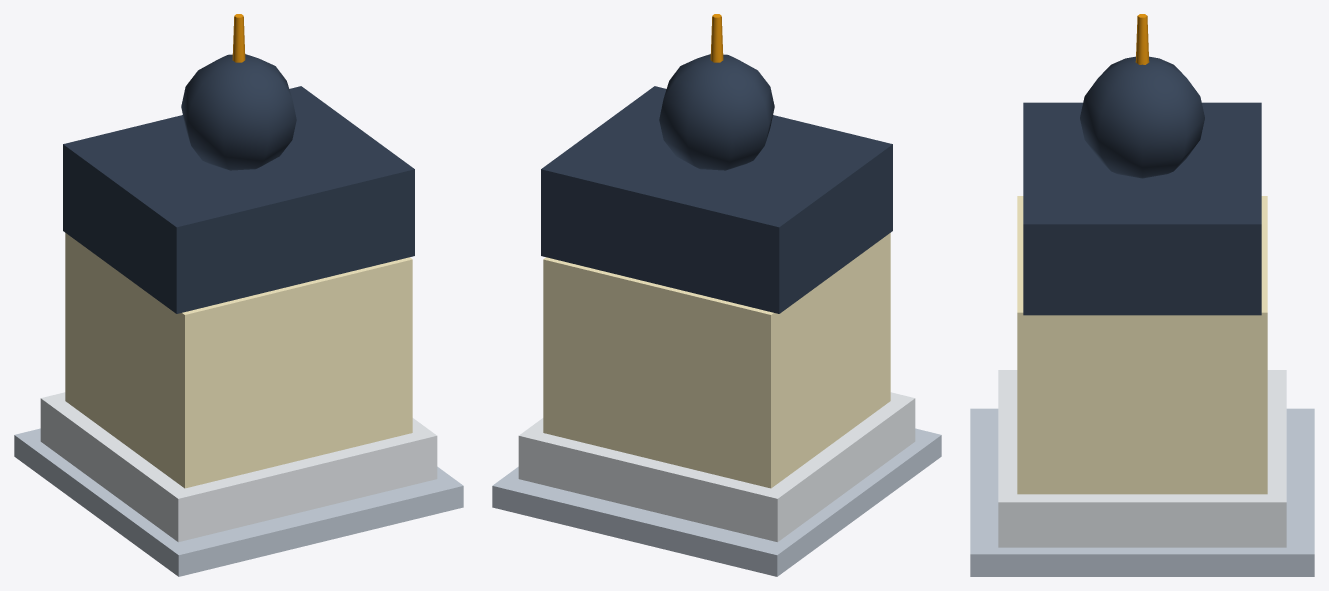
File: bld_c3_cell_34.glb
3 renders of one model, left to right at view 1: azimuth 30°, elevation 25°; view 2: azimuth 150°, elevation 25°; view 3: azimuth 270°, elevation 25°, orthographic. The views are drawn at different scales.
Parts seen in each view (by area): view 1: Bld_C3_Cell_34_BespokeLandmark; view 2: Bld_C3_Cell_34_BespokeLandmark; view 3: Bld_C3_Cell_34_BespokeLandmark.
Boxes of the visible parts, left/top/right/bottom form: Bld_C3_Cell_34_BespokeLandmark: left=14, top=14, right=463, bottom=576; Bld_C3_Cell_34_BespokeLandmark: left=492, top=14, right=941, bottom=576; Bld_C3_Cell_34_BespokeLandmark: left=970, top=14, right=1314, bottom=576.
Size of the model in its own units: 0.55 by 0.86 by 0.55.
